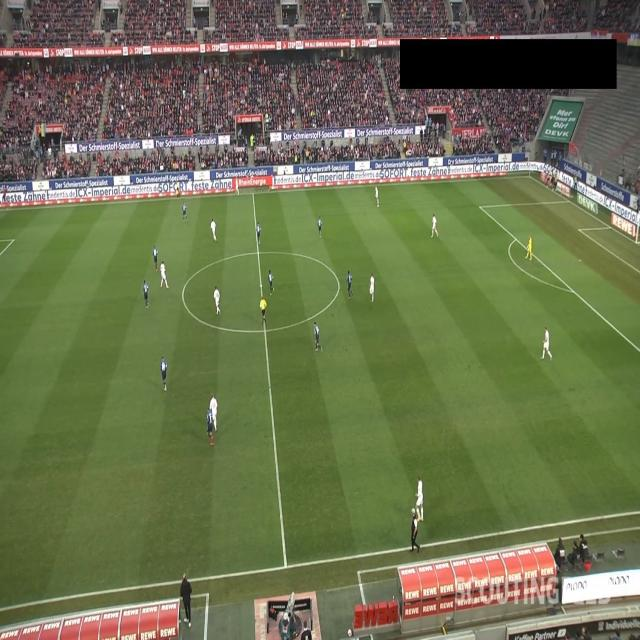ball: (376, 204, 379, 208)
